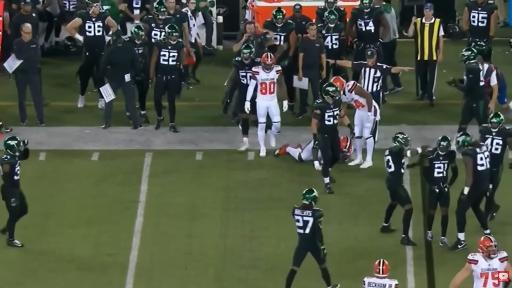Helmet: (479, 236, 497, 258), (4, 136, 23, 155), (456, 132, 472, 152), (322, 82, 339, 99), (489, 112, 504, 131), (302, 188, 318, 205), (392, 132, 410, 147), (374, 259, 389, 277), (131, 24, 145, 43), (261, 52, 275, 71), (165, 24, 179, 43), (460, 48, 477, 63), (437, 136, 451, 154), (340, 136, 353, 155), (154, 0, 167, 19), (272, 7, 285, 26), (241, 44, 254, 62), (331, 76, 346, 91), (325, 10, 338, 26), (86, 0, 101, 11), (360, 0, 372, 11), (325, 0, 337, 9)
Jersey: (467, 251, 507, 287), (480, 125, 511, 168), (466, 0, 497, 40), (292, 206, 323, 246), (462, 144, 490, 187), (351, 7, 383, 44), (78, 11, 108, 49), (252, 65, 282, 101), (427, 148, 456, 185), (313, 98, 342, 135), (233, 58, 260, 95), (318, 23, 345, 59), (0, 152, 26, 189), (157, 41, 184, 76), (464, 62, 486, 102), (142, 16, 170, 47), (263, 20, 295, 45), (341, 81, 367, 111), (128, 38, 149, 74), (385, 146, 405, 183), (101, 0, 123, 23), (363, 277, 398, 287), (126, 0, 146, 14), (316, 6, 328, 24)
Player: (66, 0, 117, 107), (286, 188, 339, 287), (381, 132, 426, 246), (449, 132, 490, 250), (311, 82, 353, 193), (332, 77, 379, 168), (150, 24, 188, 132), (424, 136, 458, 246), (245, 53, 281, 156), (480, 112, 511, 220), (0, 136, 29, 247), (263, 8, 297, 101), (450, 236, 511, 287), (456, 48, 490, 133), (233, 44, 260, 150), (347, 0, 389, 61), (129, 25, 150, 123), (142, 0, 170, 58), (463, 0, 497, 46), (262, 7, 296, 49), (318, 10, 346, 60), (363, 259, 398, 287), (315, 0, 346, 27), (275, 141, 313, 162)
